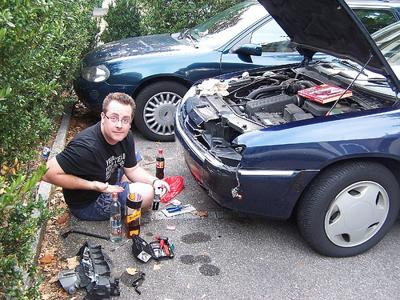person: (37, 90, 171, 222)
